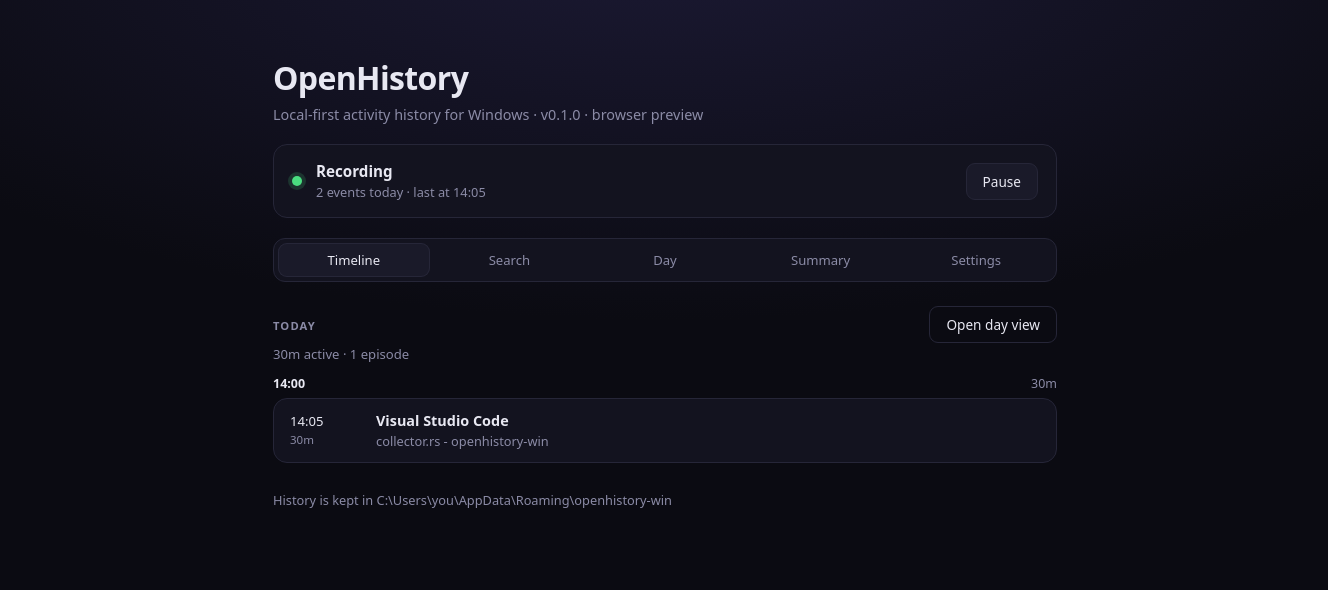
Test: Recording status › reports a failed toggle rather than lying about the state
The image size is (1328, 590).
Click the button "Pause": [1002, 181] box [966,162,1038,200]
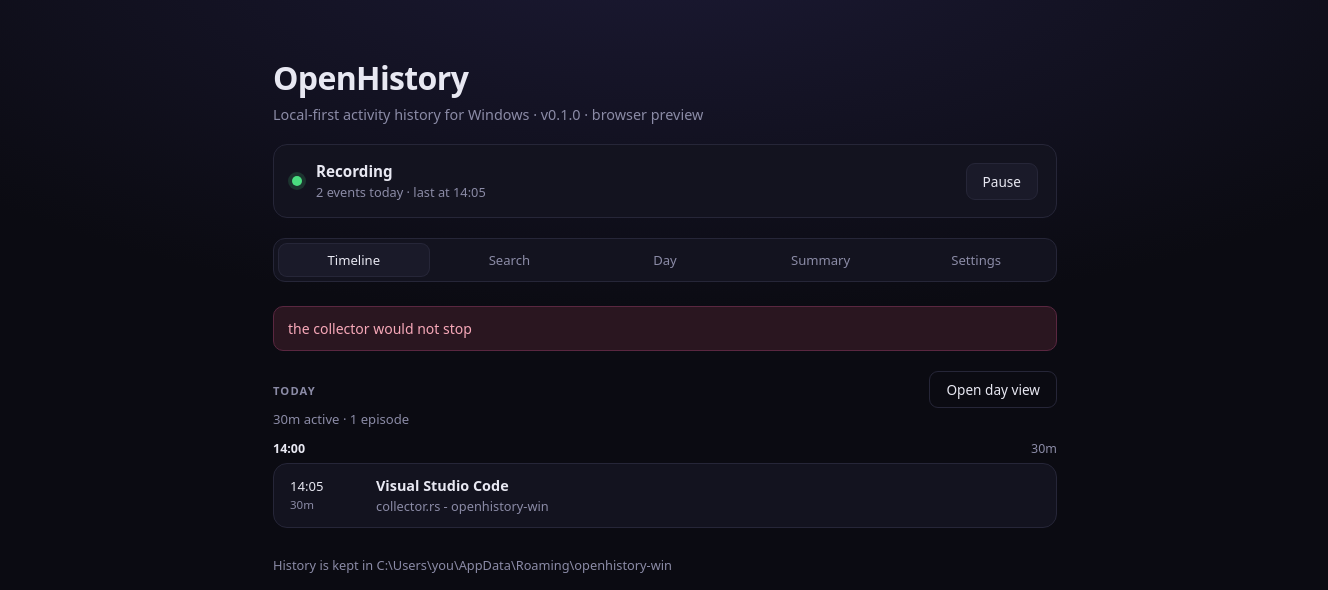
Expected: the text "Recording" is shown, [316,161,393,181]
Expected: the message reads "the collector would not stop", [288,319,472,338]
